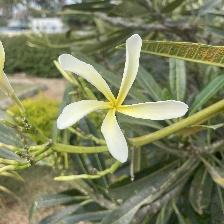champaka: (51, 34, 193, 169)
